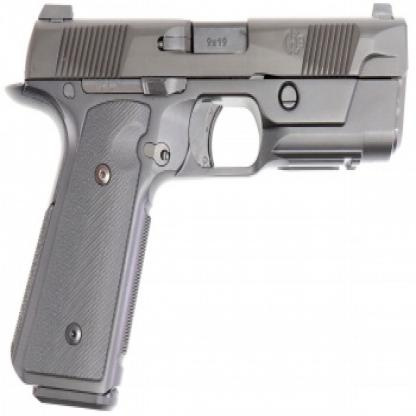Guns: (3, 0, 408, 415)
